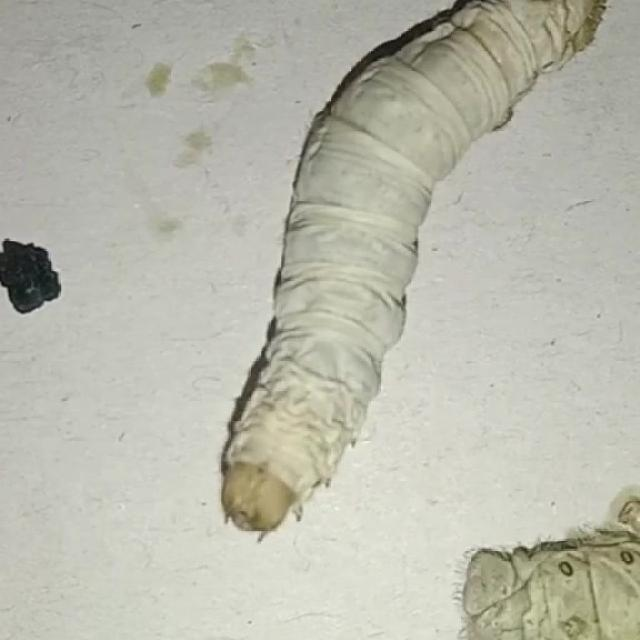Grasserie: (207, 4, 632, 562)
